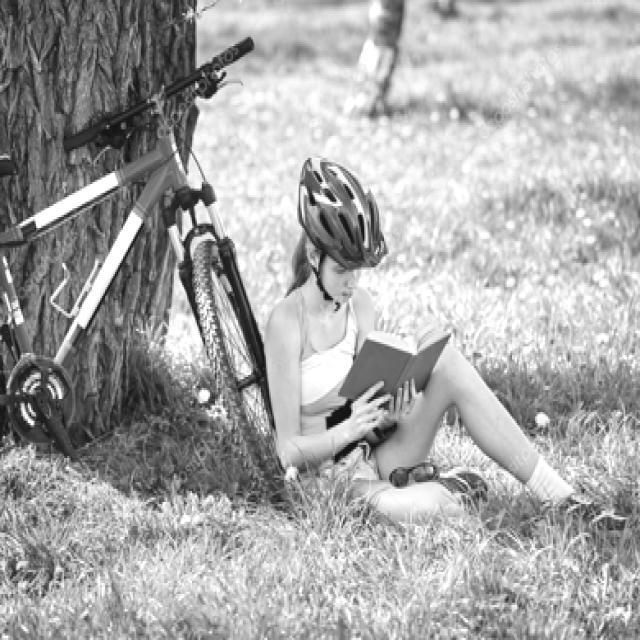Helmet: (292, 149, 392, 309)
